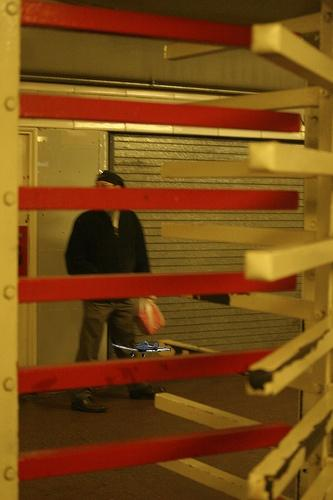tampered: (111, 342, 171, 357)
